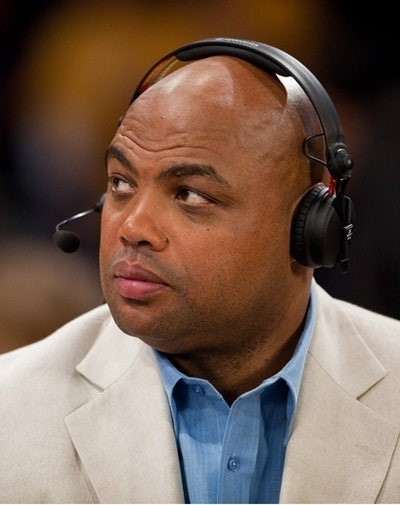face_no_mask: (102, 39, 356, 342)
